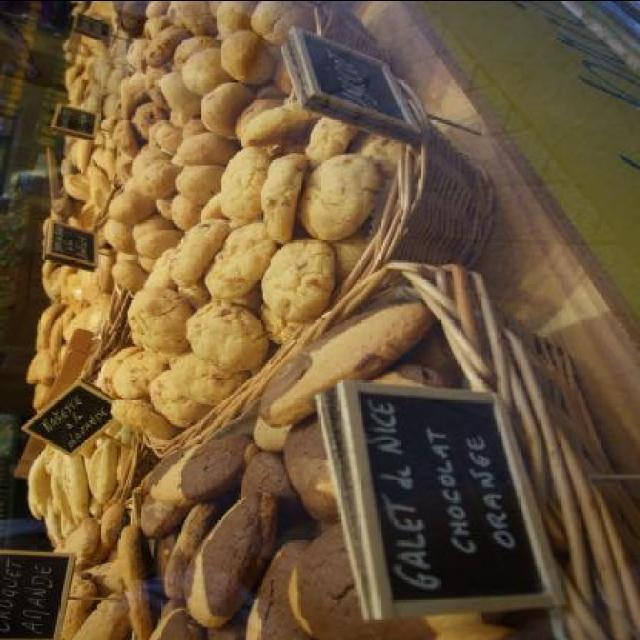Cookie: (283, 363, 460, 525), (255, 301, 438, 425), (181, 492, 281, 626), (321, 585, 526, 640), (282, 514, 354, 640), (145, 430, 257, 507), (296, 150, 378, 241), (242, 540, 314, 640), (258, 236, 336, 322), (204, 219, 278, 301), (186, 304, 269, 372), (165, 348, 253, 408), (254, 150, 308, 239), (128, 286, 194, 356), (218, 143, 270, 226), (147, 370, 218, 428), (172, 214, 226, 286), (245, 102, 317, 153), (303, 118, 363, 174), (121, 528, 150, 640), (406, 327, 464, 379), (112, 396, 176, 441), (72, 591, 130, 640), (328, 222, 370, 288), (64, 292, 116, 342), (346, 128, 396, 180), (153, 514, 182, 602), (250, 302, 308, 346), (116, 351, 166, 402), (64, 569, 98, 640), (150, 597, 202, 640), (137, 497, 189, 540), (98, 345, 138, 397), (250, 404, 293, 452), (83, 243, 115, 305), (208, 280, 266, 312), (144, 26, 182, 74), (95, 503, 124, 562), (130, 102, 172, 138), (67, 514, 98, 562), (143, 62, 172, 111), (142, 248, 176, 286), (175, 1, 212, 34), (39, 304, 67, 346), (50, 310, 73, 361), (208, 612, 244, 640), (110, 122, 138, 156), (196, 194, 227, 222), (124, 84, 146, 121), (100, 559, 122, 595), (34, 352, 56, 388), (69, 277, 89, 315), (42, 258, 62, 296), (26, 350, 44, 382), (33, 380, 50, 408), (48, 267, 64, 296), (128, 393, 156, 409), (56, 268, 76, 286), (56, 339, 70, 364), (280, 140, 304, 151), (51, 536, 66, 553)
